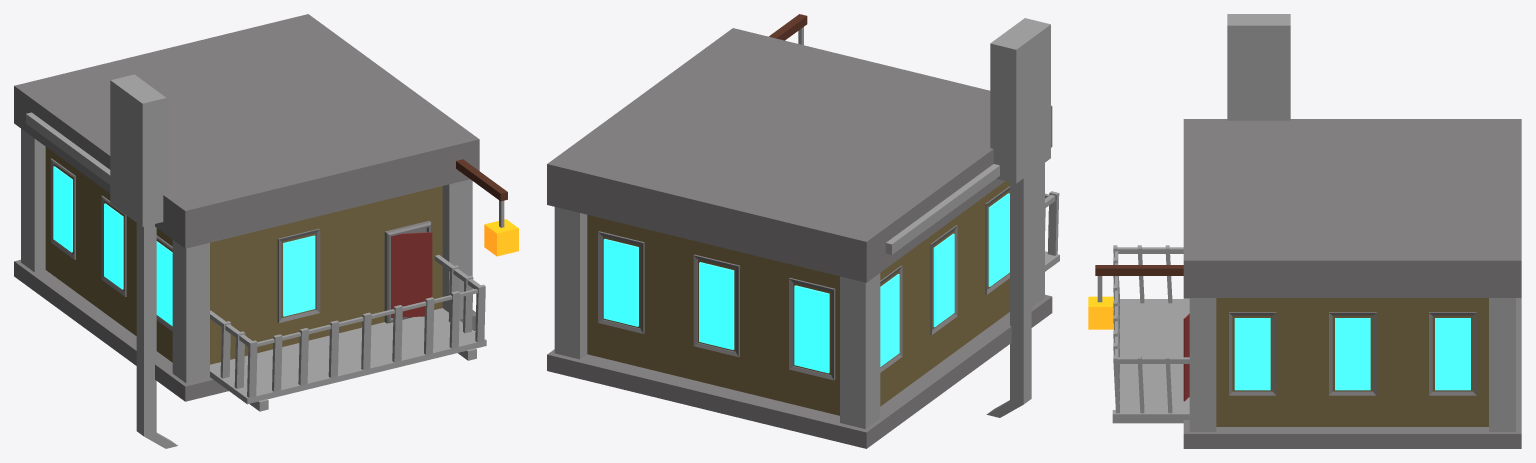
3 renders of one model, left to right at view 1: azimuth 30°, elevation 25°; view 2: azimuth 150°, elevation 25°; view 3: azimuth 270°, elevation 25°, orthographic. The views are drawn at different scales.
Parts seen in each view (by area): view 1: Cube.002; view 2: Cube.002; view 3: Cube.002.
Boxes of the visible parts, x1,y1,x2,y2 form: Cube.002: [14, 14, 518, 448]; Cube.002: [547, 14, 1059, 448]; Cube.002: [1088, 14, 1521, 448].
Size of the model in its own units: 14.1 by 15.36 by 17.03.
